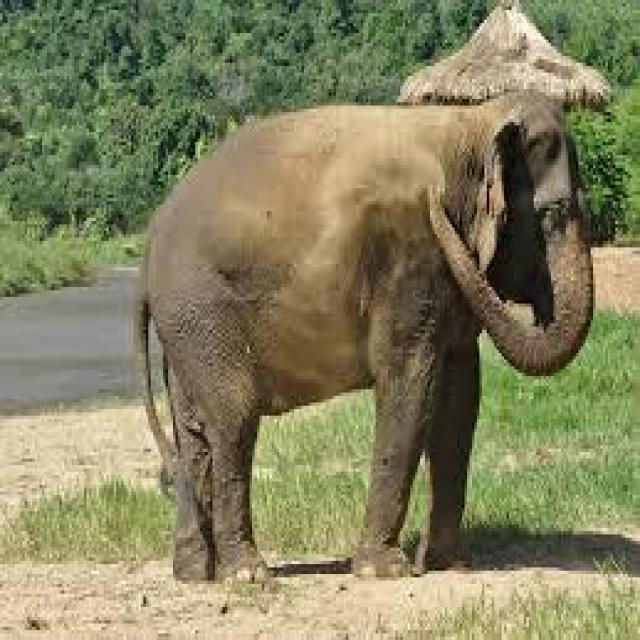Elephant: (129, 86, 593, 577)
